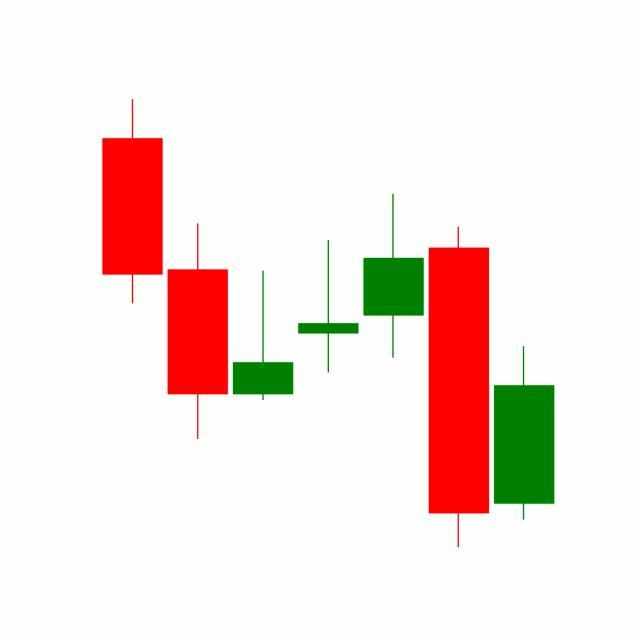Hikkake Pattern: (165, 190, 492, 549)
